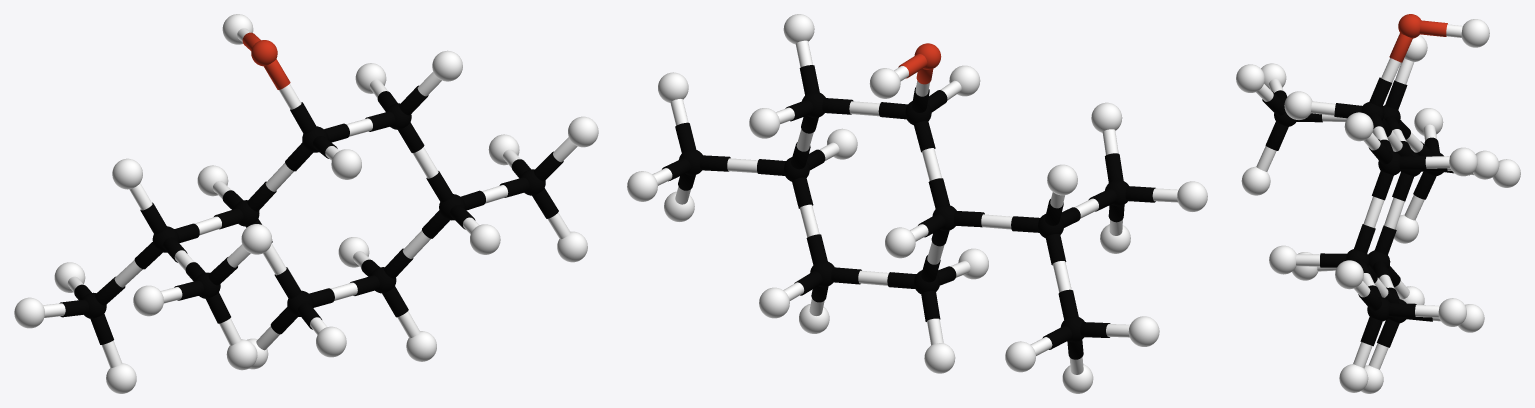
The model's file is Menthol.dae.
3 renders of one model, left to right at view 1: azimuth 30°, elevation 25°; view 2: azimuth 150°, elevation 25°; view 3: azimuth 270°, elevation 25°, orthographic. The views are drawn at different scales.
Visible parts, largest first — view 1: Hydrogène_001, Hydrogène_012, Hydrogène_017, Hydrogène_004, Hydrogène_000, Hydrogène_010, Hydrogène_011, Hydrogène_016, Hydrogène_2, Hydrogène_019, Hydrogène_003, Hydrogène_015 (+8 smaller); view 2: Hydrogène_008, Hydrogène_013, Hydrogène_2, Hydrogène_007, Hydrogène_005, Hydrogène_004, Hydrogène_009, Hydrogène_006, Hydrogène_014, Hydrogène_001, Hydrogène_000, Hydrogène_011 (+8 smaller); view 3: Hydrogène_014, Hydrogène_011, Hydrogène_012, Hydrogène_000, Hydrogène_009, Hydrogène_018, Hydrogène_013, Hydrogène_016, Hydrogène_003, Hydrogène_010, Hydrogène_005, Hydrogène_007 (+43 smaller).
Boxes of the visible parts, bbox=[...] form: Hydrogène_001: bbox=[133, 285, 163, 316]; Hydrogène_012: bbox=[568, 116, 598, 147]; Hydrogène_017: bbox=[316, 326, 346, 357]; Hydrogène_004: bbox=[14, 297, 44, 328]; Hydrogène_000: bbox=[241, 224, 272, 254]; Hydrogène_010: bbox=[331, 149, 361, 179]; Hydrogène_011: bbox=[432, 50, 462, 81]; Hydrogène_016: bbox=[470, 224, 500, 254]; Hydrogène_2: bbox=[112, 158, 142, 189]; Hydrogène_019: bbox=[106, 363, 136, 393]; Hydrogène_003: bbox=[226, 339, 257, 370]; Hydrogène_015: bbox=[406, 331, 436, 361]; Hydrogène_008: bbox=[759, 287, 789, 318]; Hydrogène_013: bbox=[627, 171, 657, 201]; Hydrogène_2: bbox=[1047, 164, 1077, 195]; Hydrogène_007: bbox=[885, 227, 915, 258]; Hydrogène_005: bbox=[1005, 341, 1035, 372]; Hydrogène_004: bbox=[1128, 316, 1159, 346]; Hydrogène_009: bbox=[869, 68, 900, 98]; Hydrogène_006: bbox=[924, 343, 955, 373]; Hydrogène_014: bbox=[749, 108, 779, 138]; Hydrogène_001: bbox=[1177, 181, 1207, 211]; Hydrogène_000: bbox=[1091, 102, 1122, 132]; Hydrogène_011: bbox=[783, 14, 814, 44]; Hydrogène_014: bbox=[1449, 147, 1477, 176]; Hydrogène_011: bbox=[1344, 112, 1373, 141]; Hydrogène_012: bbox=[1335, 260, 1363, 289]; Hydrogène_000: bbox=[1236, 64, 1264, 92]; Hydrogène_009: bbox=[1461, 19, 1489, 47]; Hydrogène_018: bbox=[1339, 364, 1368, 392]; Hydrogène_013: bbox=[1438, 298, 1466, 326]; Hydrogène_016: bbox=[1269, 245, 1296, 274]; Hydrogène_003: bbox=[1241, 166, 1270, 195]; Hydrogène_010: bbox=[1284, 91, 1312, 119]; Hydrogène_005: bbox=[1492, 159, 1520, 187]; Hydrogène_007: bbox=[1473, 150, 1499, 179].
Bounding box in the file's own units: 8.66 × 4.23 × 5.17.
